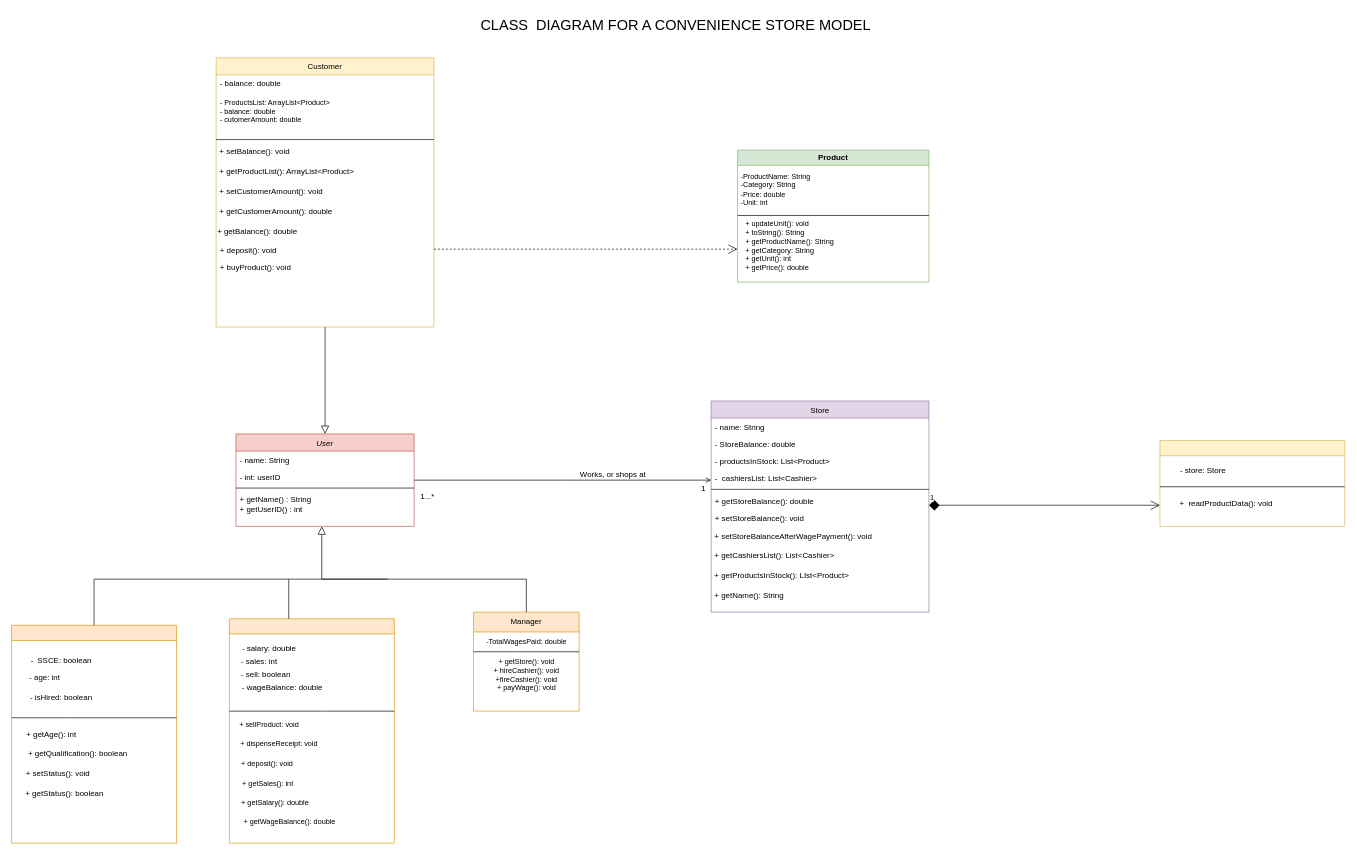
Some shapes in this 1357 by 855 pixel diagram are drawn without their labels. Here are the shapes that lost their labels. From the top down, the box of each, then its label:
(1159, 440, 1345, 526): Product Reader
(11, 625, 177, 843): Applicant
(229, 618, 394, 843): Cashier
